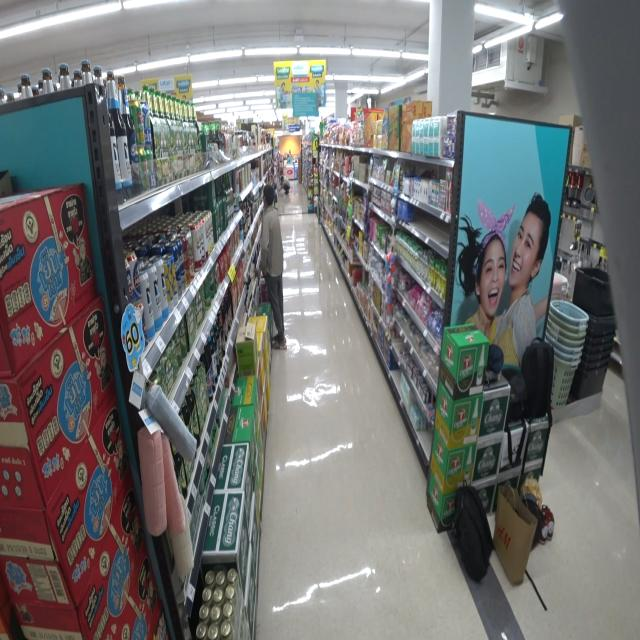shoplifting: (257, 184, 290, 350)
